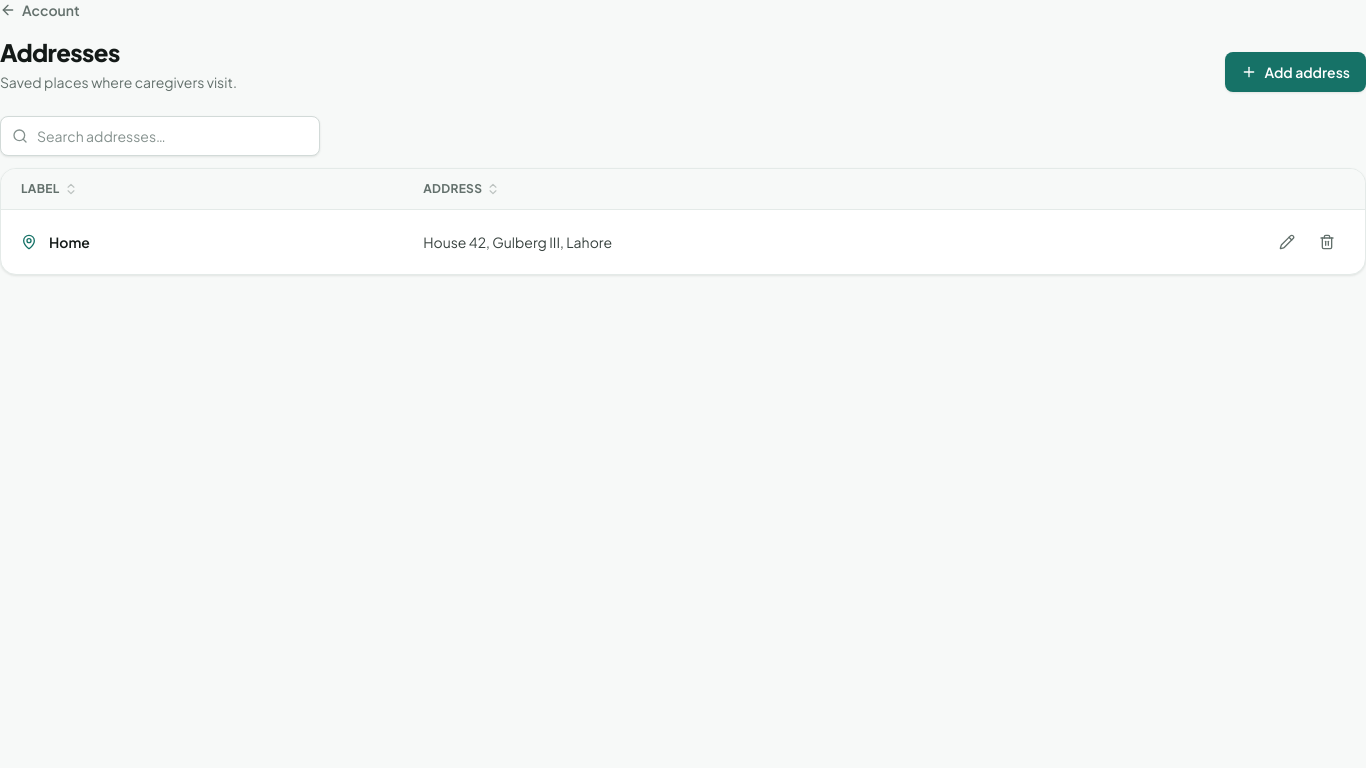
Test case: Addresses page › shows the friendly message when an address in use can't be deleted
Click the button named "Remove address" at (1327, 242), box [1309,224,1345,260]
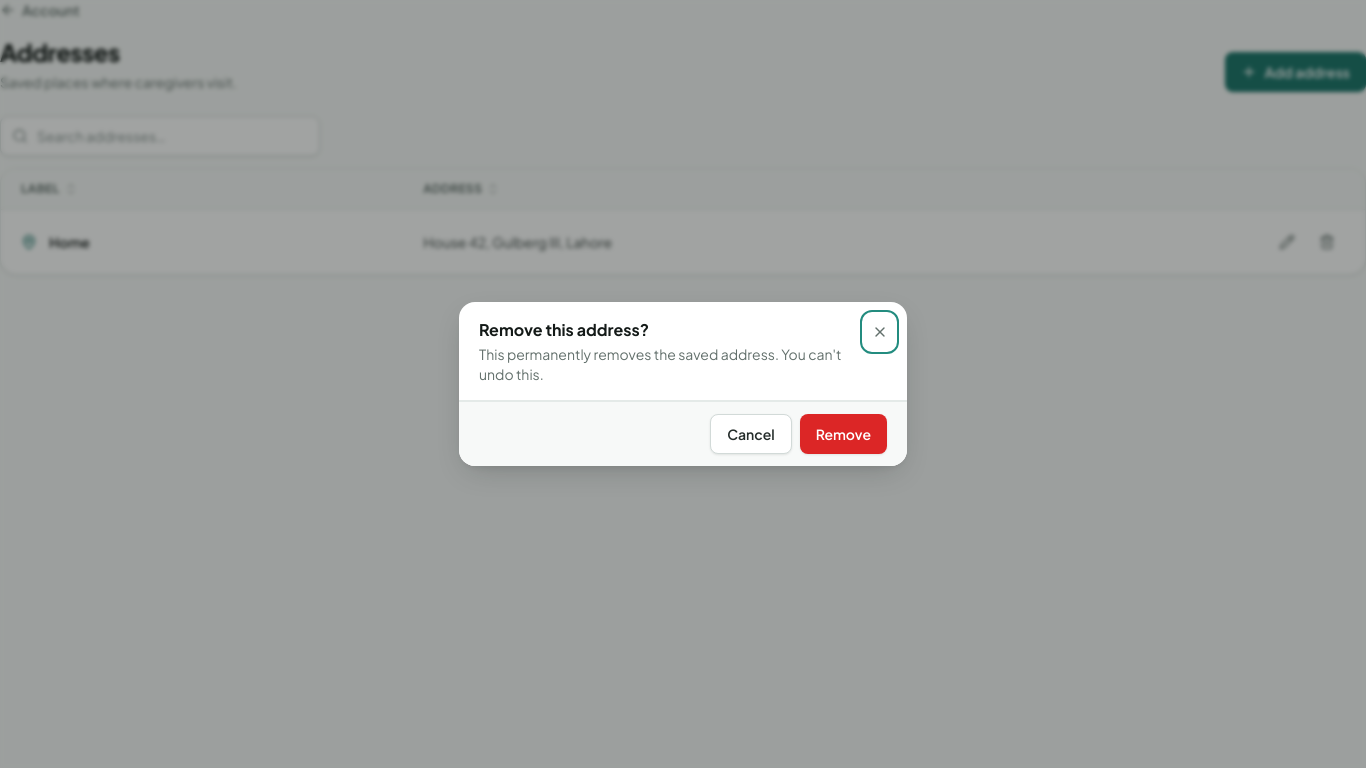
# Deletion is now behind a confirmation dialog.
Click the button "Remove" at (843, 434), box [800,414,887,454]
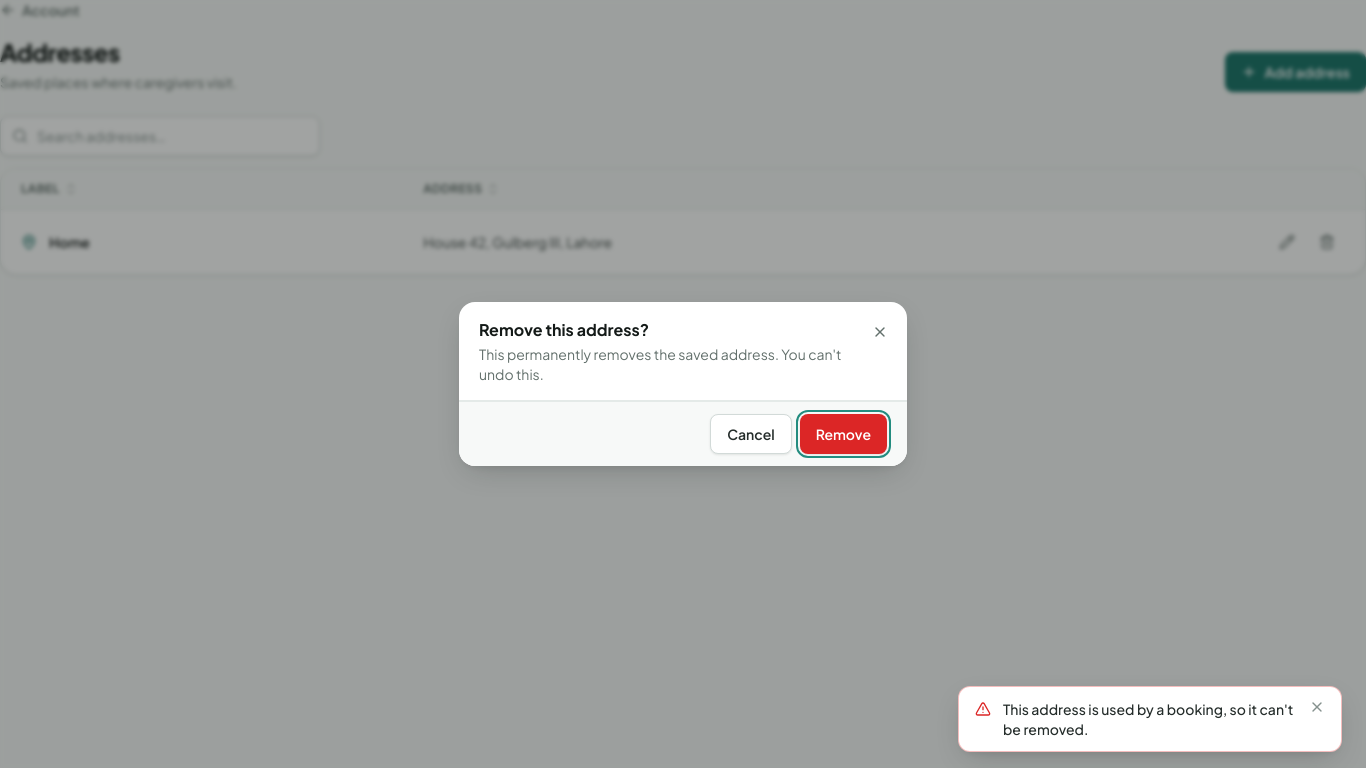
Result: the text "This address is used by a booking, so it can't be removed." is shown at [1003,699,1297,739]
